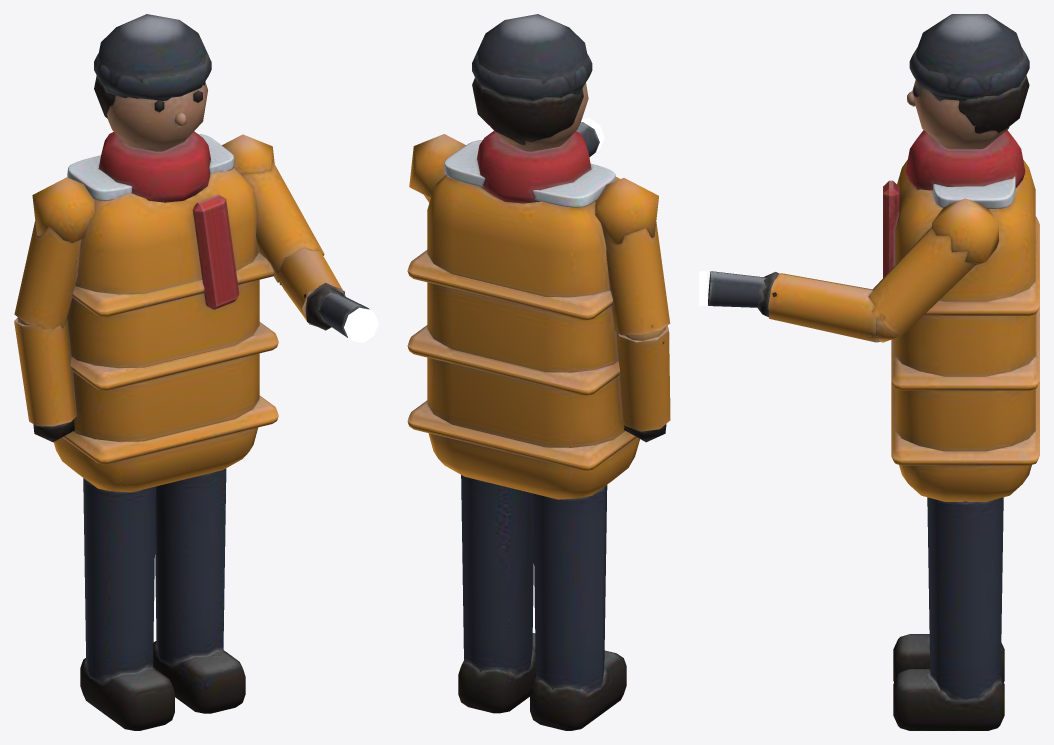
The model's file is citizen_player.glb.
3 renders of one model, left to right at view 1: azimuth 30°, elevation 25°; view 2: azimuth 150°, elevation 25°; view 3: azimuth 270°, elevation 25°, orthographic. The views are drawn at different scales.
Parts seen in each view (by area): view 1: citizen_player, citizen_player_glow; view 2: citizen_player; view 3: citizen_player.
Boxes of the visible parts, <box> form: citizen_player: <box>14,14,369,730</box>; citizen_player_glow: <box>344,307,378,342</box>; citizen_player: <box>407,14,670,730</box>; citizen_player: <box>708,14,1039,730</box>.
Size of the model in its own units: 0.7415 by 1.84 by 0.825.
Materials: 2 (1 with a texture image).
